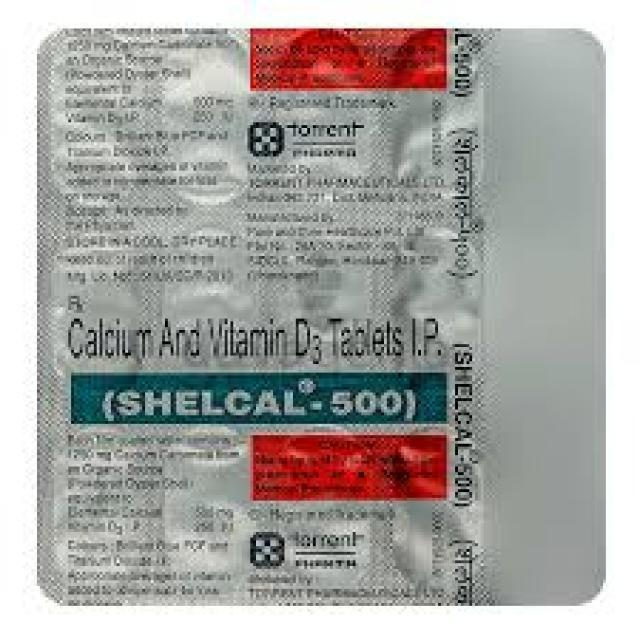authentic: (18, 20, 616, 612)
